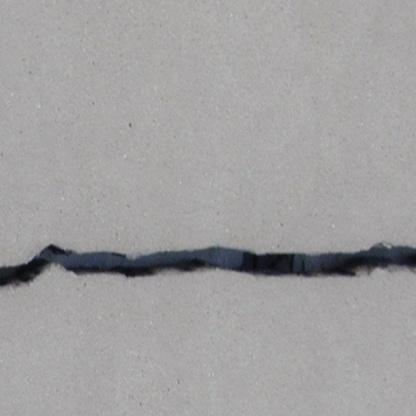Cracks: (0, 239, 416, 295)
